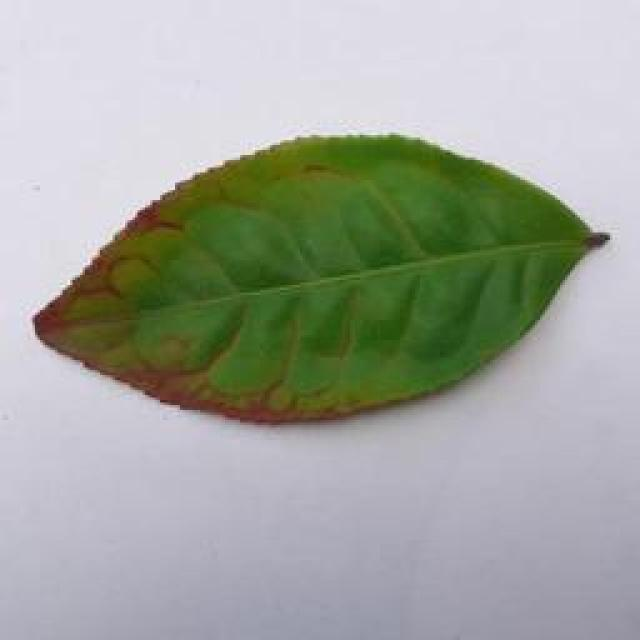Red Leaf Spot: (10, 116, 640, 422)
